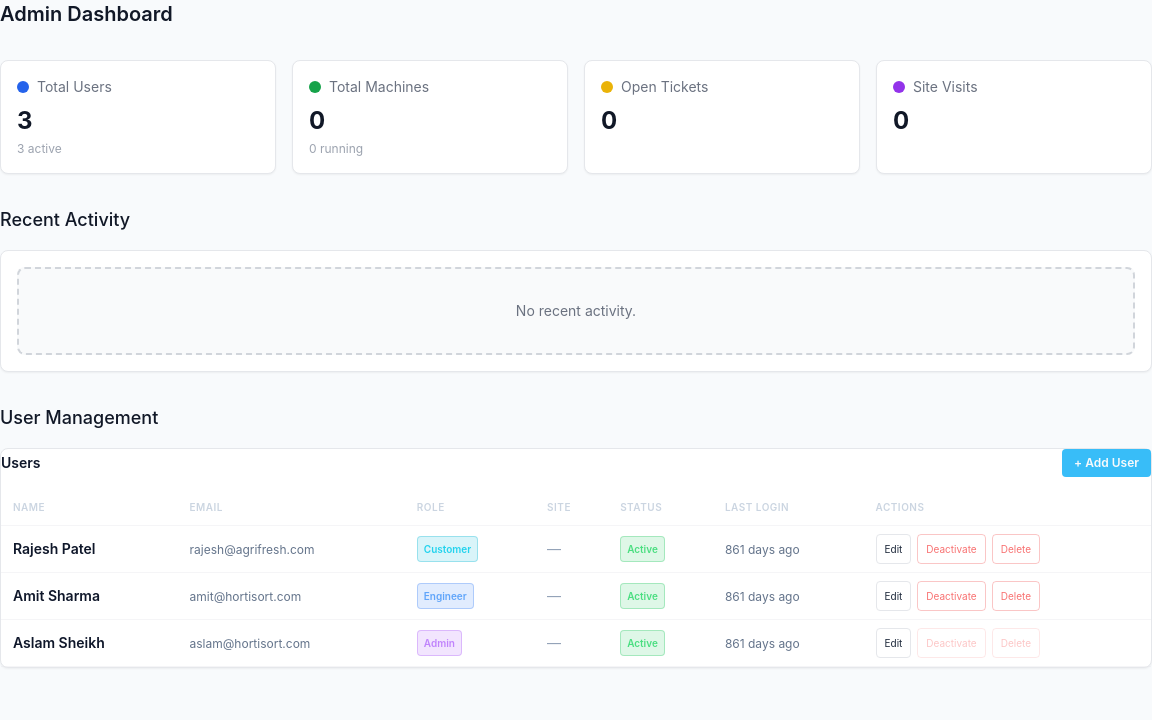
Test: AdminPage › opens CreateUserModal when "+ Add User" button is clicked
The width and height of the screenshot is (1152, 720).
Click the button "+ Add User" at (1107, 463), box [1062, 449, 1151, 477]
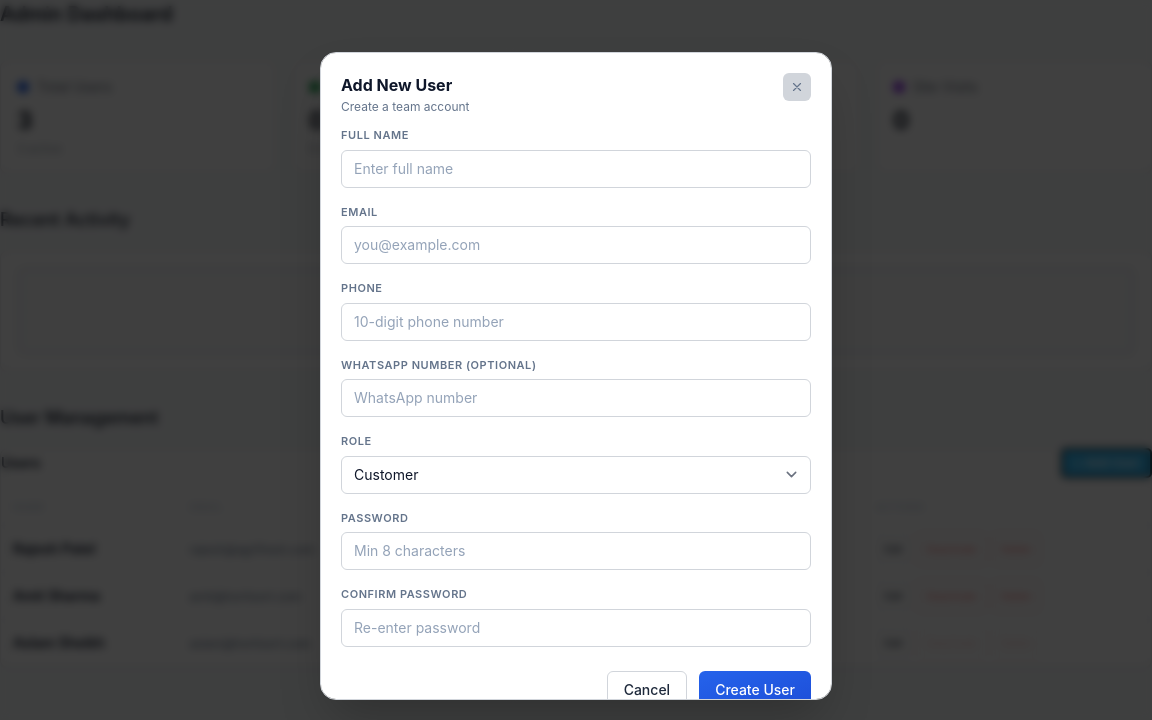
Expected: the dialog is shown
Expected: the heading "Add New User" is shown, [341, 73, 470, 97]
